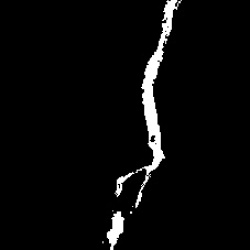crack: (104, 3, 180, 245)
